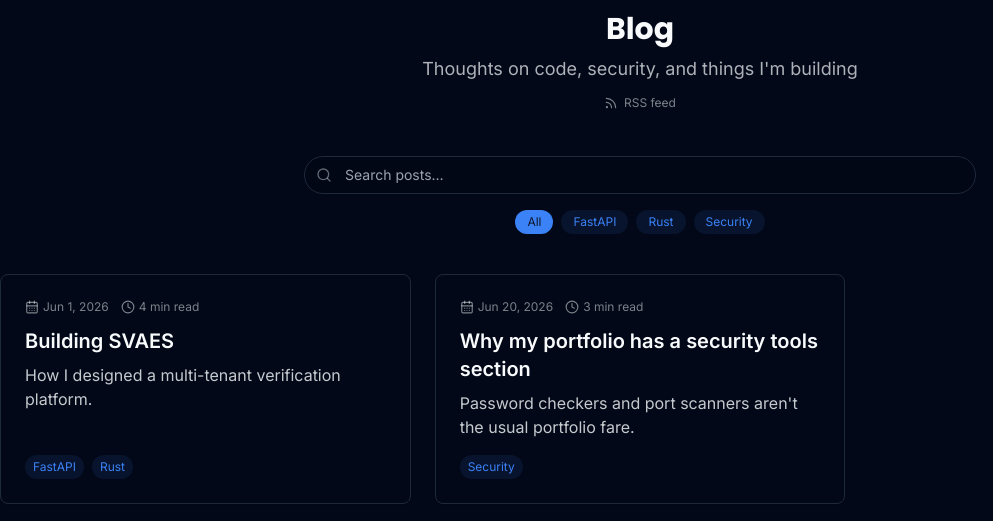
Test: BlogSection › filters posts by search query
Type "SVAES" into the search field with placeholder "Search posts…". click: (640,175)
box: [304,156,976,194]
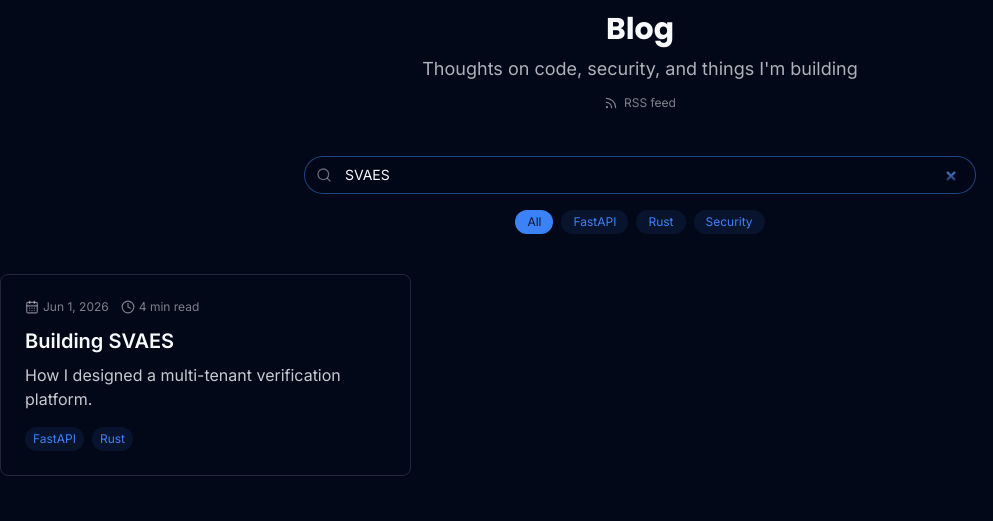
Expected: the heading "Building SVAES" is shown, [25,329,174,353]
Expected: the link "Why my portfolio has a security tools section" is gone
